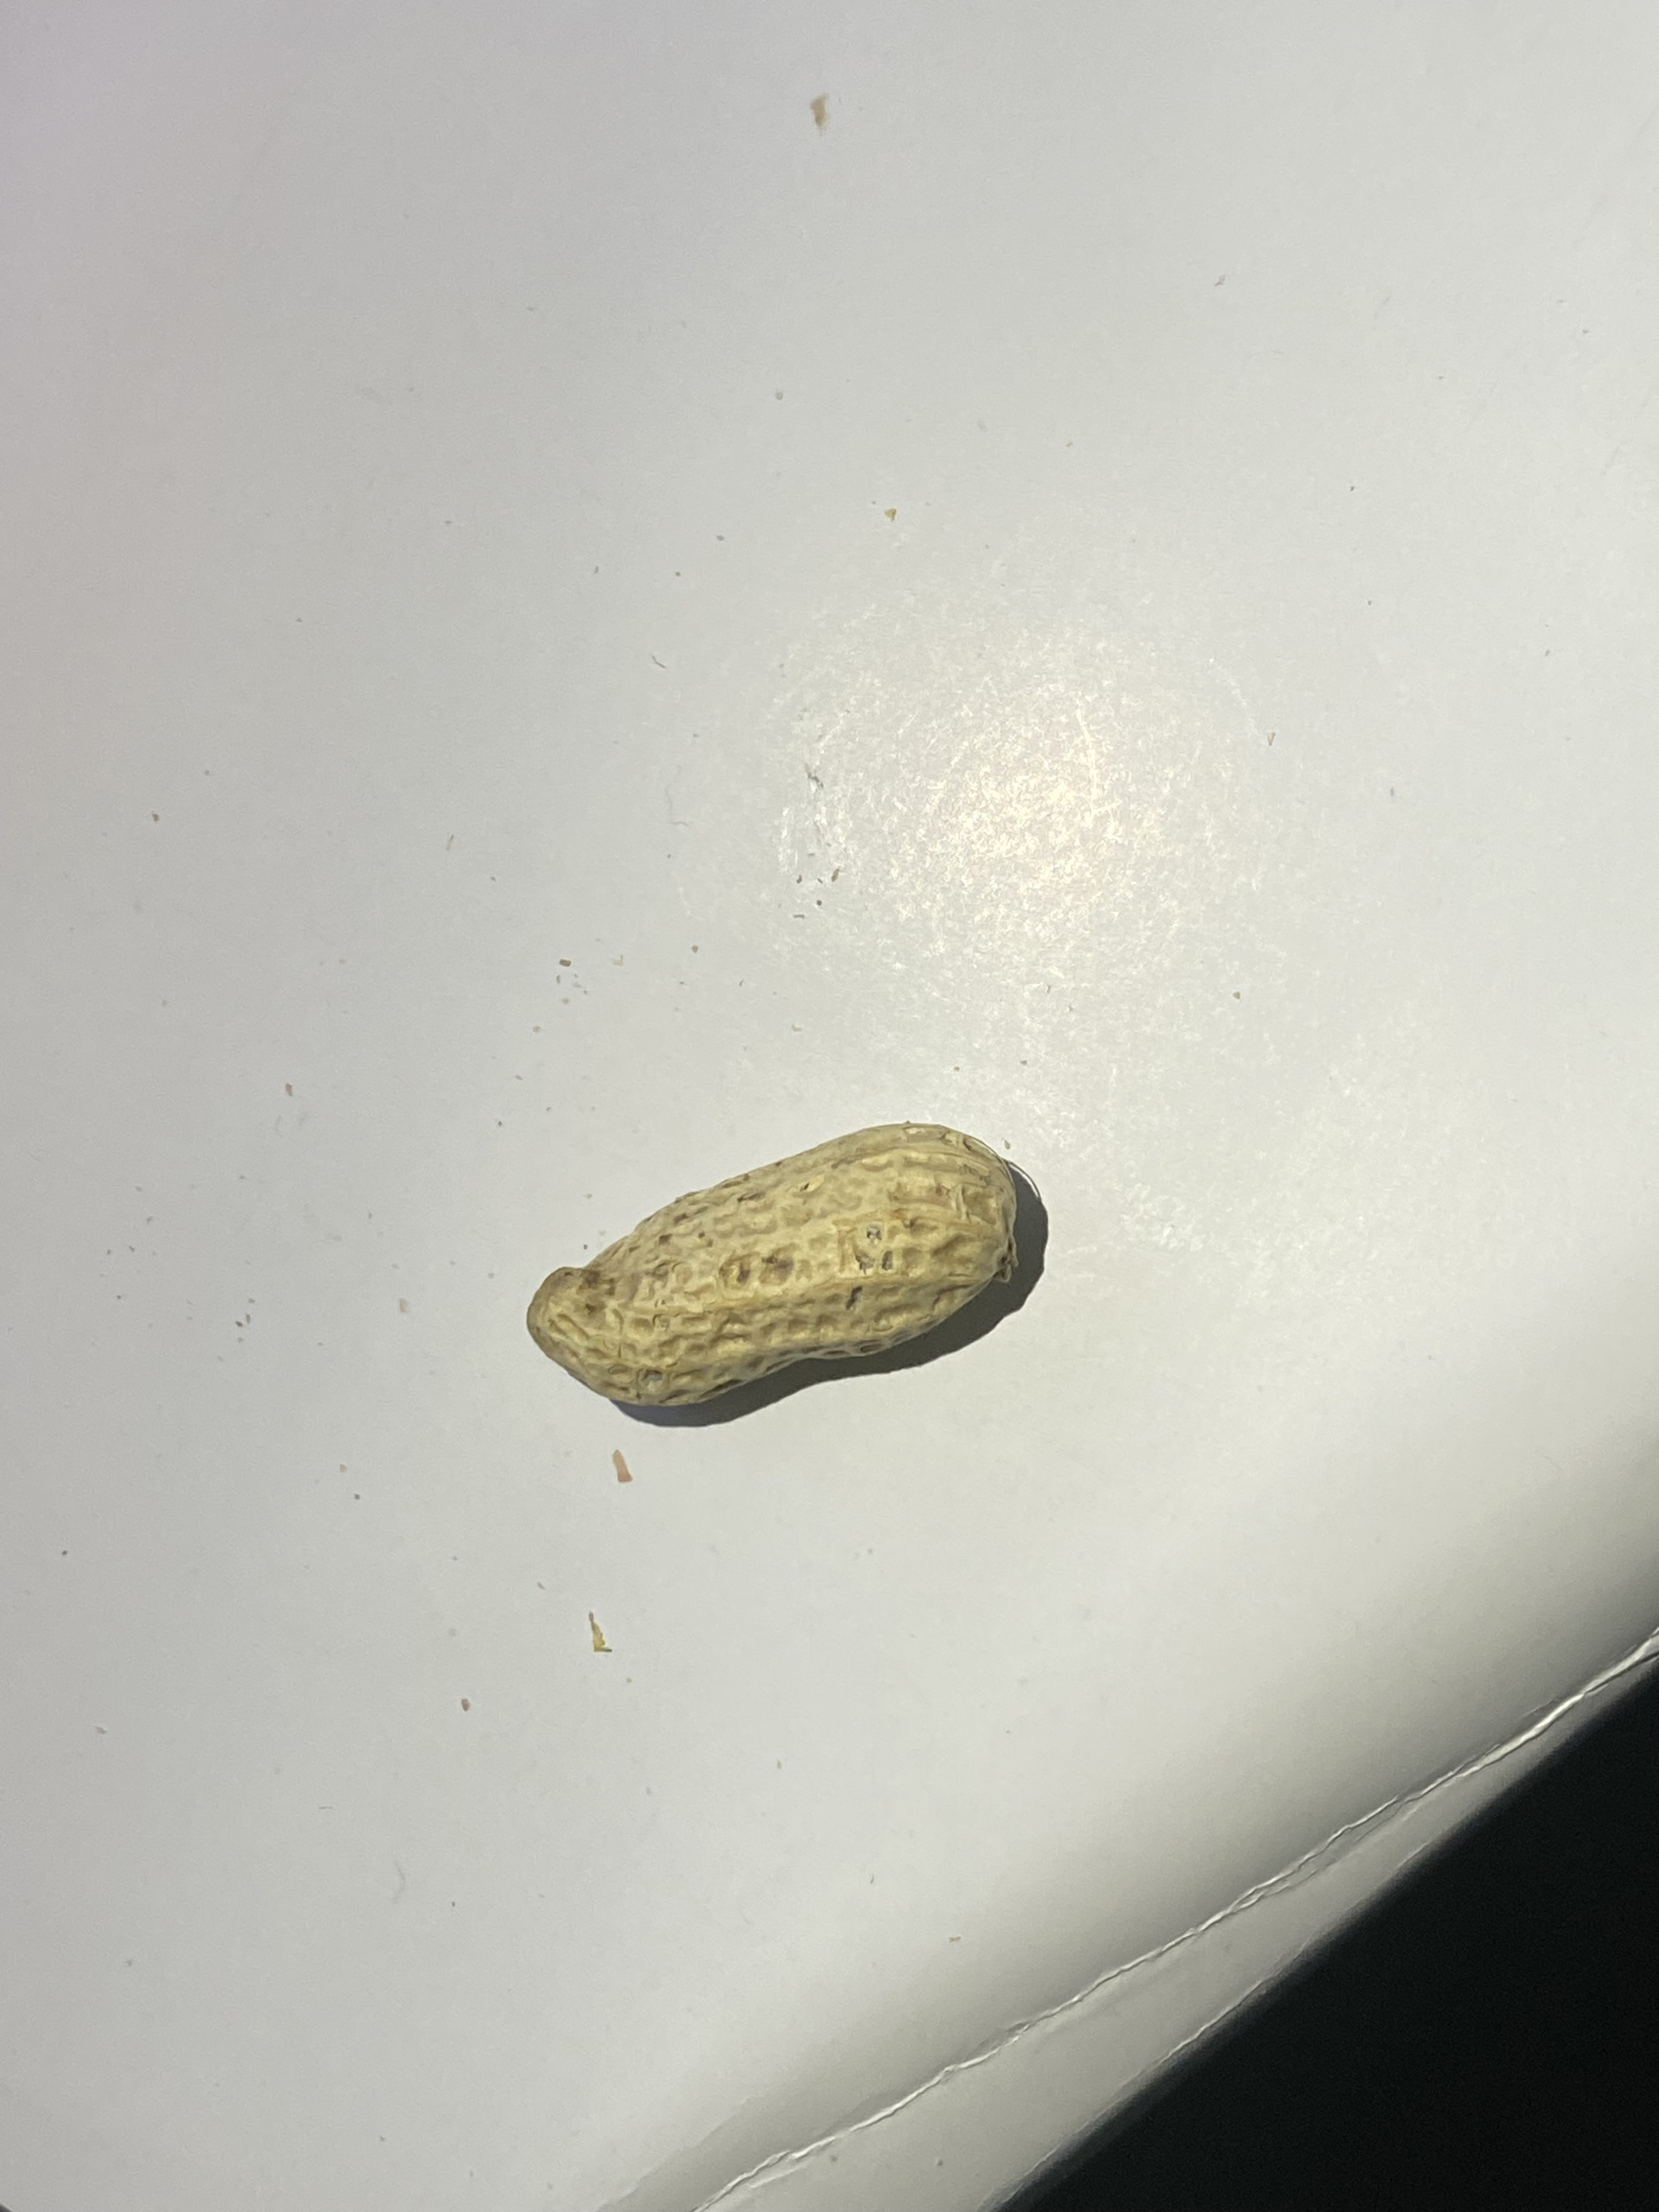kacang2: (488, 1113, 1058, 1428)
